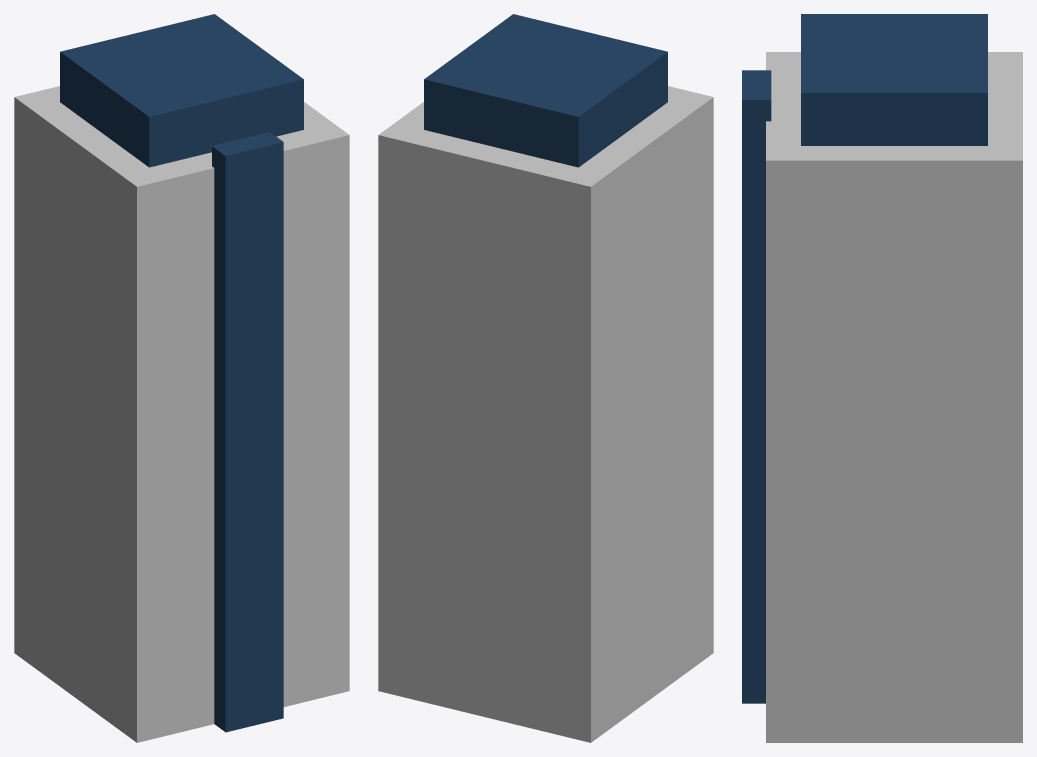
The model's file is apartment_tower_01.glb.
3 views of the same model, side by side, from view 1: azimuth 30°, elevation 25°; view 2: azimuth 150°, elevation 25°; view 3: azimuth 270°, elevation 25° (orthographic). The views are drawn at different scales.
Size of the model in its own units: 22 by 60 by 24.05.
